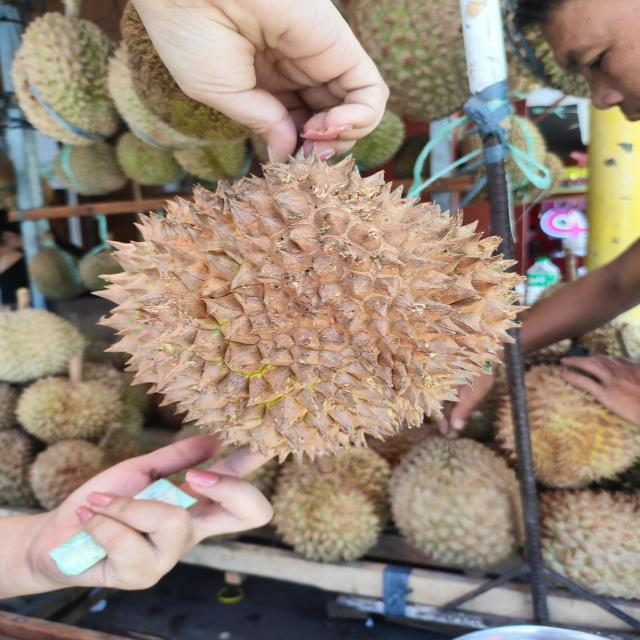mature: (94, 141, 532, 467)
